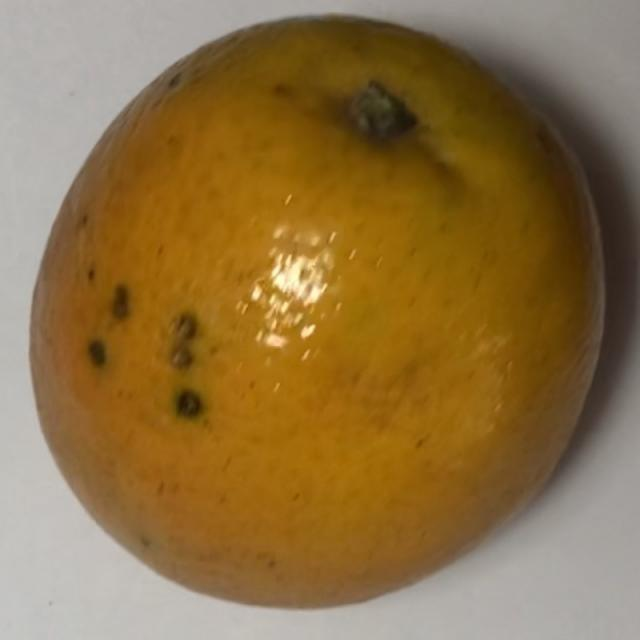blackspot: (18, 10, 619, 617)
